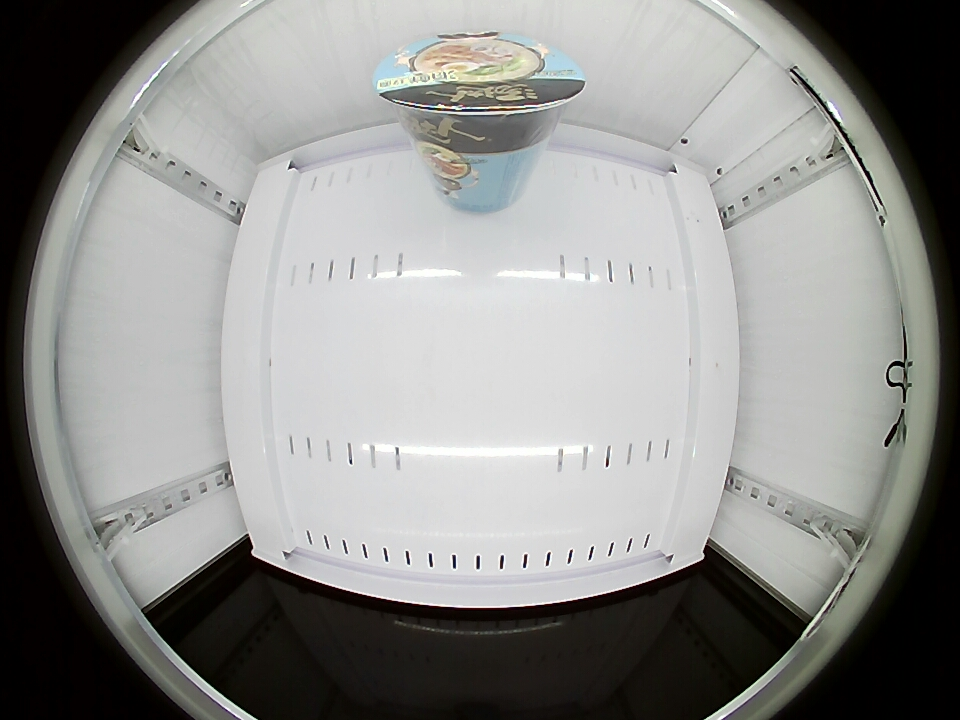tangdaren3: (374, 31, 585, 152)
